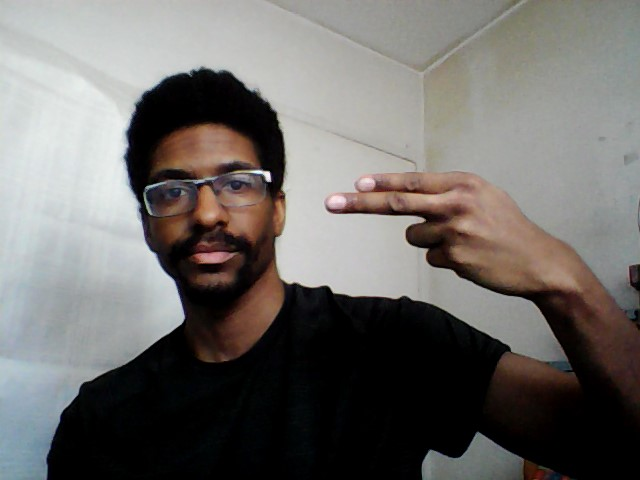h: (322, 164, 589, 302)
